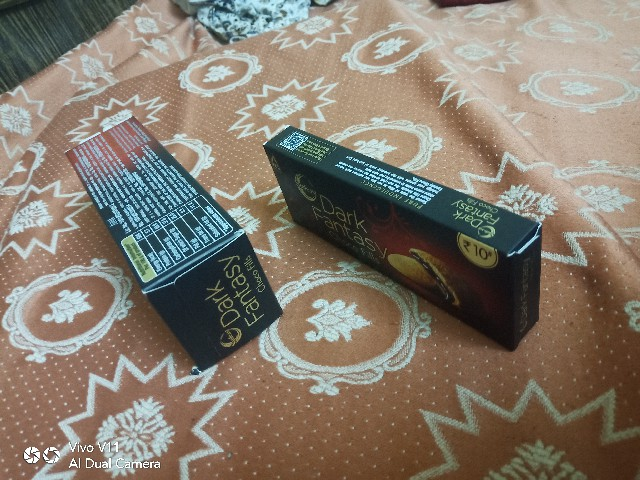darkfantasy big: (56, 90, 279, 433)
darkfantasy small: (261, 87, 596, 353)
